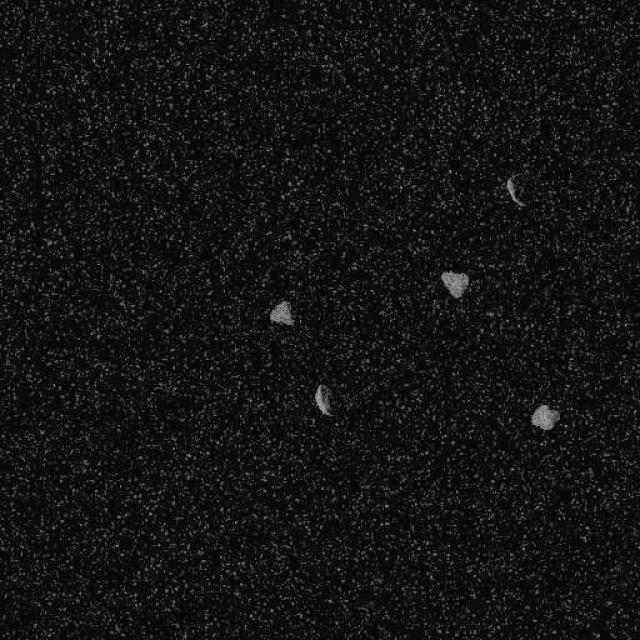D2: (530, 402, 560, 432), (440, 269, 469, 299), (313, 382, 335, 417), (504, 175, 526, 207), (268, 299, 294, 326)
